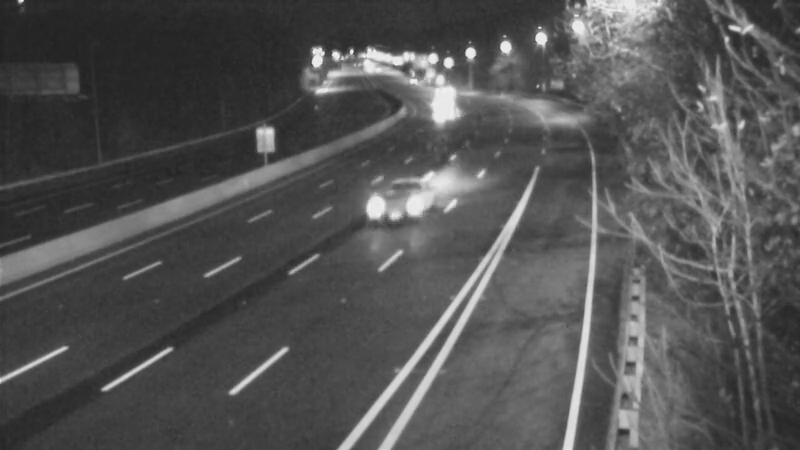vehicle: (352, 164, 432, 244), (419, 67, 469, 117), (419, 81, 469, 131), (420, 91, 470, 141)
